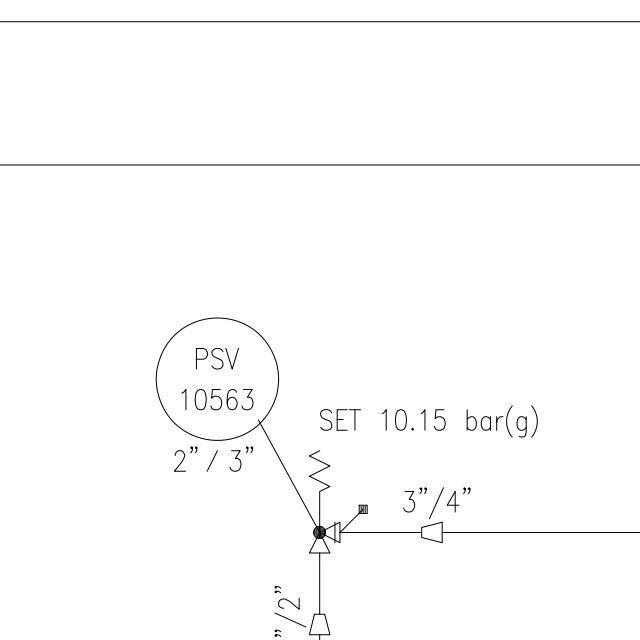RPV: (301, 445, 343, 560)
SP: (302, 607, 335, 637), (417, 516, 447, 546)
